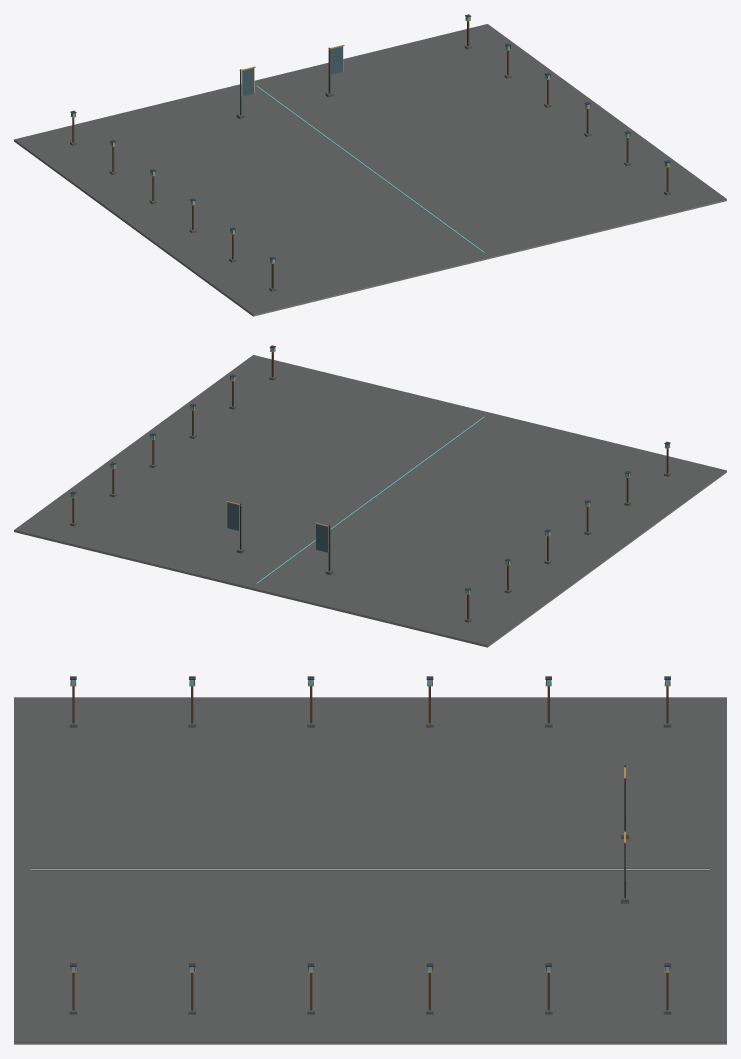
File: visual-far.glb
The picture shows the model from 3 angles, top to bottom: view 1: azimuth 30°, elevation 25°; view 2: azimuth 150°, elevation 25°; view 3: azimuth 270°, elevation 25°; orthographic projection. The views are drawn at different scales.
Visible parts, largest first — view 1: 石铺面与混凝土承板, 旗杆、悬挂旗布与织入边纹 (×2), 中轴嵌装能源面与金属承槽; view 2: 石铺面与混凝土承板, 旗杆、悬挂旗布与织入边纹 (×2), 中轴嵌装能源面与金属承槽; view 3: 石铺面与混凝土承板, 中轴嵌装能源面与金属承槽.
Part boxes in pixels (x1,y1,x2,y2): 石铺面与混凝土承板: (14,24,726,316); 旗杆、悬挂旗布与织入边纹 (×2): (236,45,344,118); 中轴嵌装能源面与金属承槽: (256,85,484,252); 石铺面与混凝土承板: (14,355,726,647); 旗杆、悬挂旗布与织入边纹 (×2): (225,501,333,575); 中轴嵌装能源面与金属承槽: (256,416,484,583); 石铺面与混凝土承板: (14,697,726,1044); 中轴嵌装能源面与金属承槽: (31,868,709,870).
Size of the model in its own units: 96 by 9.7 by 84.
Materials: 13 (13 with a texture image).
